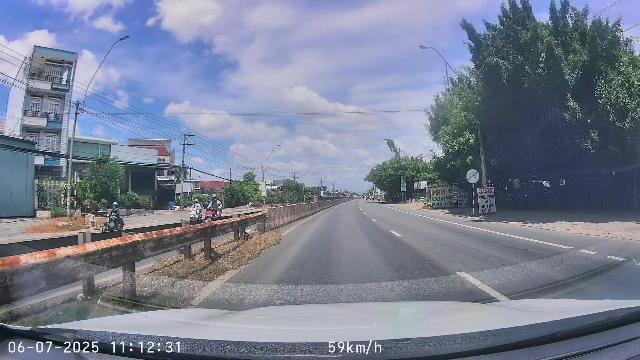133-het-cam-vuot: (466, 169, 480, 183)
